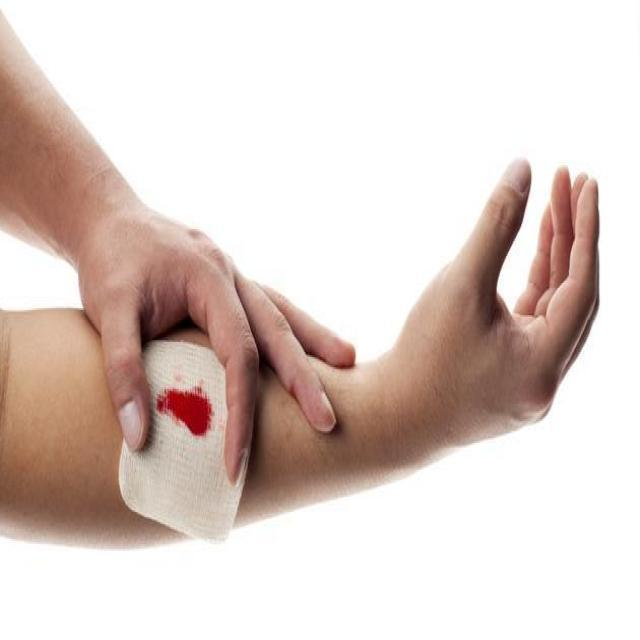flood: (156, 388, 214, 436)
